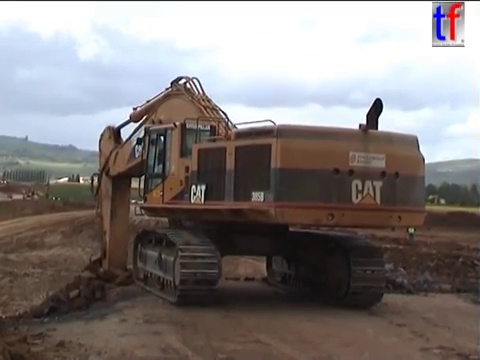excavator: (73, 71, 430, 312), (20, 185, 47, 202)
worker: (404, 215, 420, 244)
